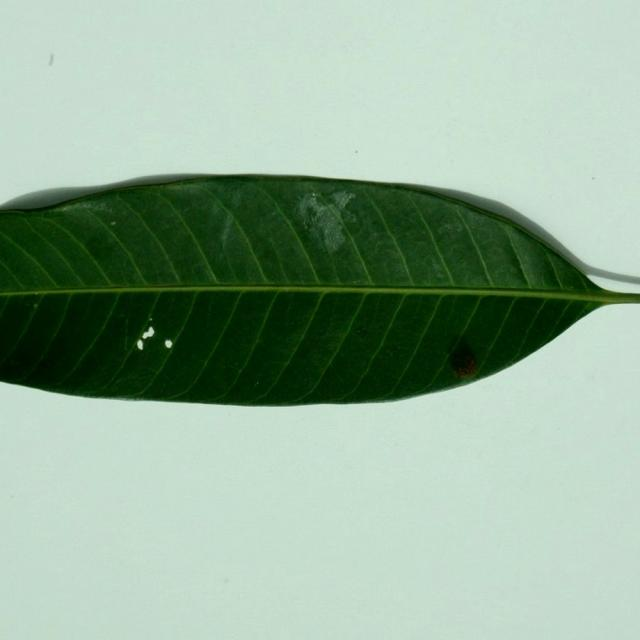Anthracnose: (133, 317, 181, 368)
Mango: (0, 175, 639, 409)
